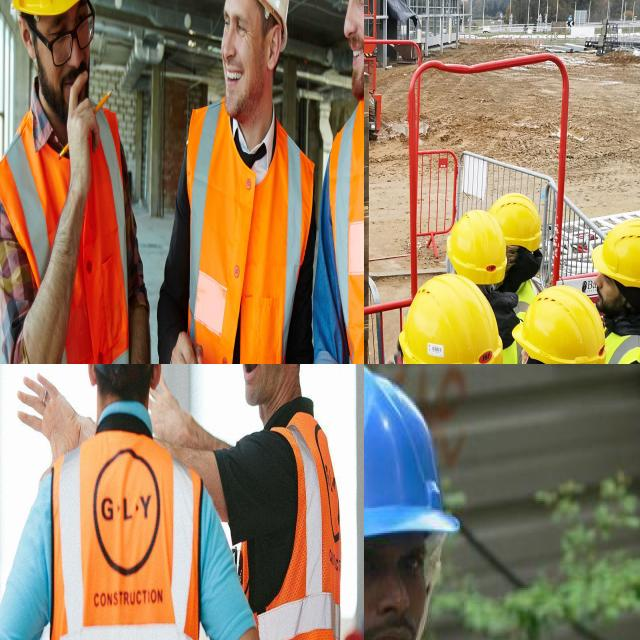No_Ear-Protection: (16, 9, 41, 70), (267, 16, 282, 78), (148, 364, 166, 394), (84, 364, 100, 387)
No_Glasses: (364, 541, 436, 600)
face_nomask: (364, 547, 449, 640), (43, 17, 102, 114), (217, 0, 258, 133), (337, 0, 364, 103), (225, 364, 283, 404)
glasses: (50, 10, 96, 74)
hand_noglove: (10, 364, 91, 480), (62, 77, 112, 206), (146, 376, 202, 439)
head_helmet: (364, 364, 465, 538), (398, 272, 504, 364), (511, 284, 607, 364), (446, 208, 506, 285), (211, 0, 301, 51), (590, 216, 640, 295), (488, 191, 543, 249)
person: (0, 0, 164, 364), (171, 0, 331, 364), (33, 364, 216, 640), (214, 364, 348, 640), (364, 364, 492, 640), (364, 273, 529, 364), (509, 285, 607, 364), (215, 0, 259, 41), (342, 0, 364, 20)
vest: (49, 426, 210, 640), (185, 99, 313, 364), (0, 99, 127, 364), (217, 416, 342, 640), (327, 73, 364, 364)
